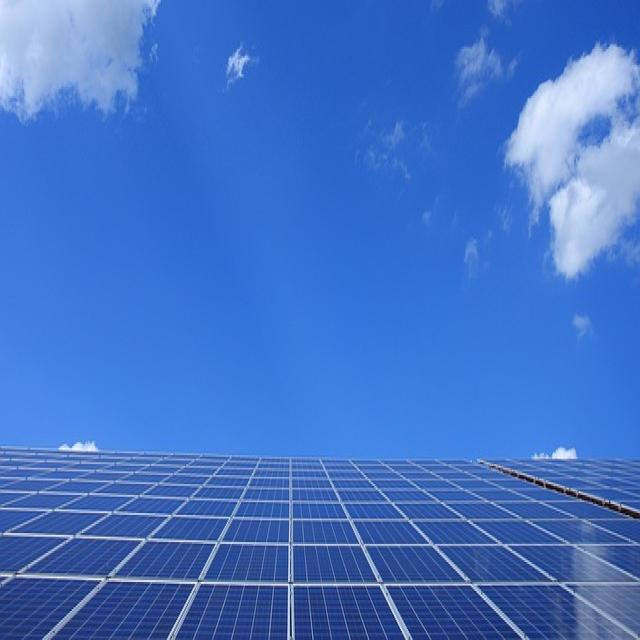clean-solar-panel: (1, 449, 640, 639)
